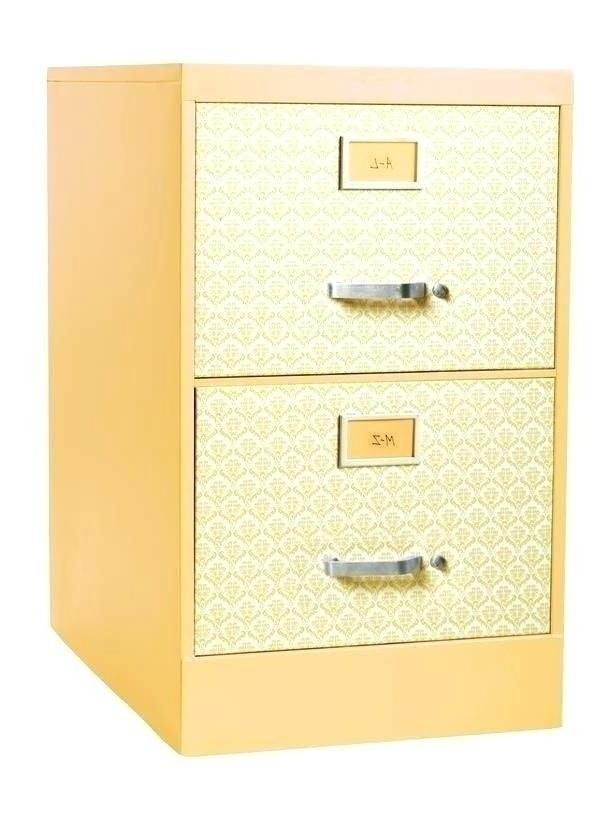cabinet_door: (197, 107, 560, 372), (198, 392, 558, 649)
handle: (326, 269, 436, 319), (324, 544, 432, 594)
